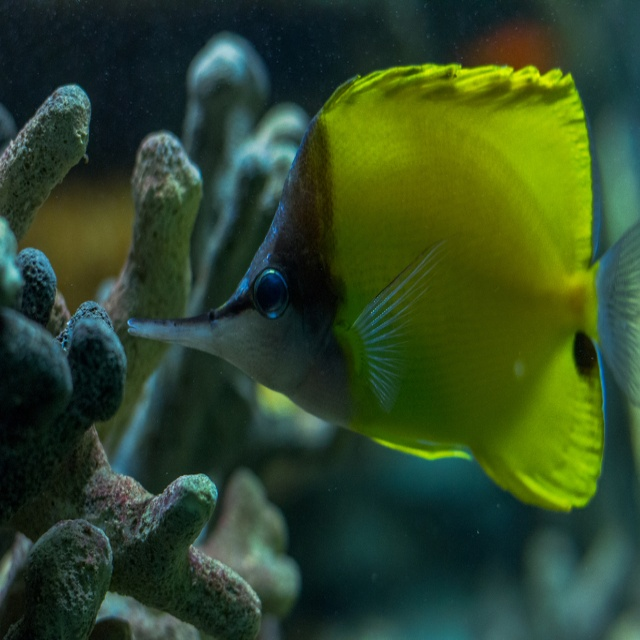Fish: (127, 63, 640, 513)
